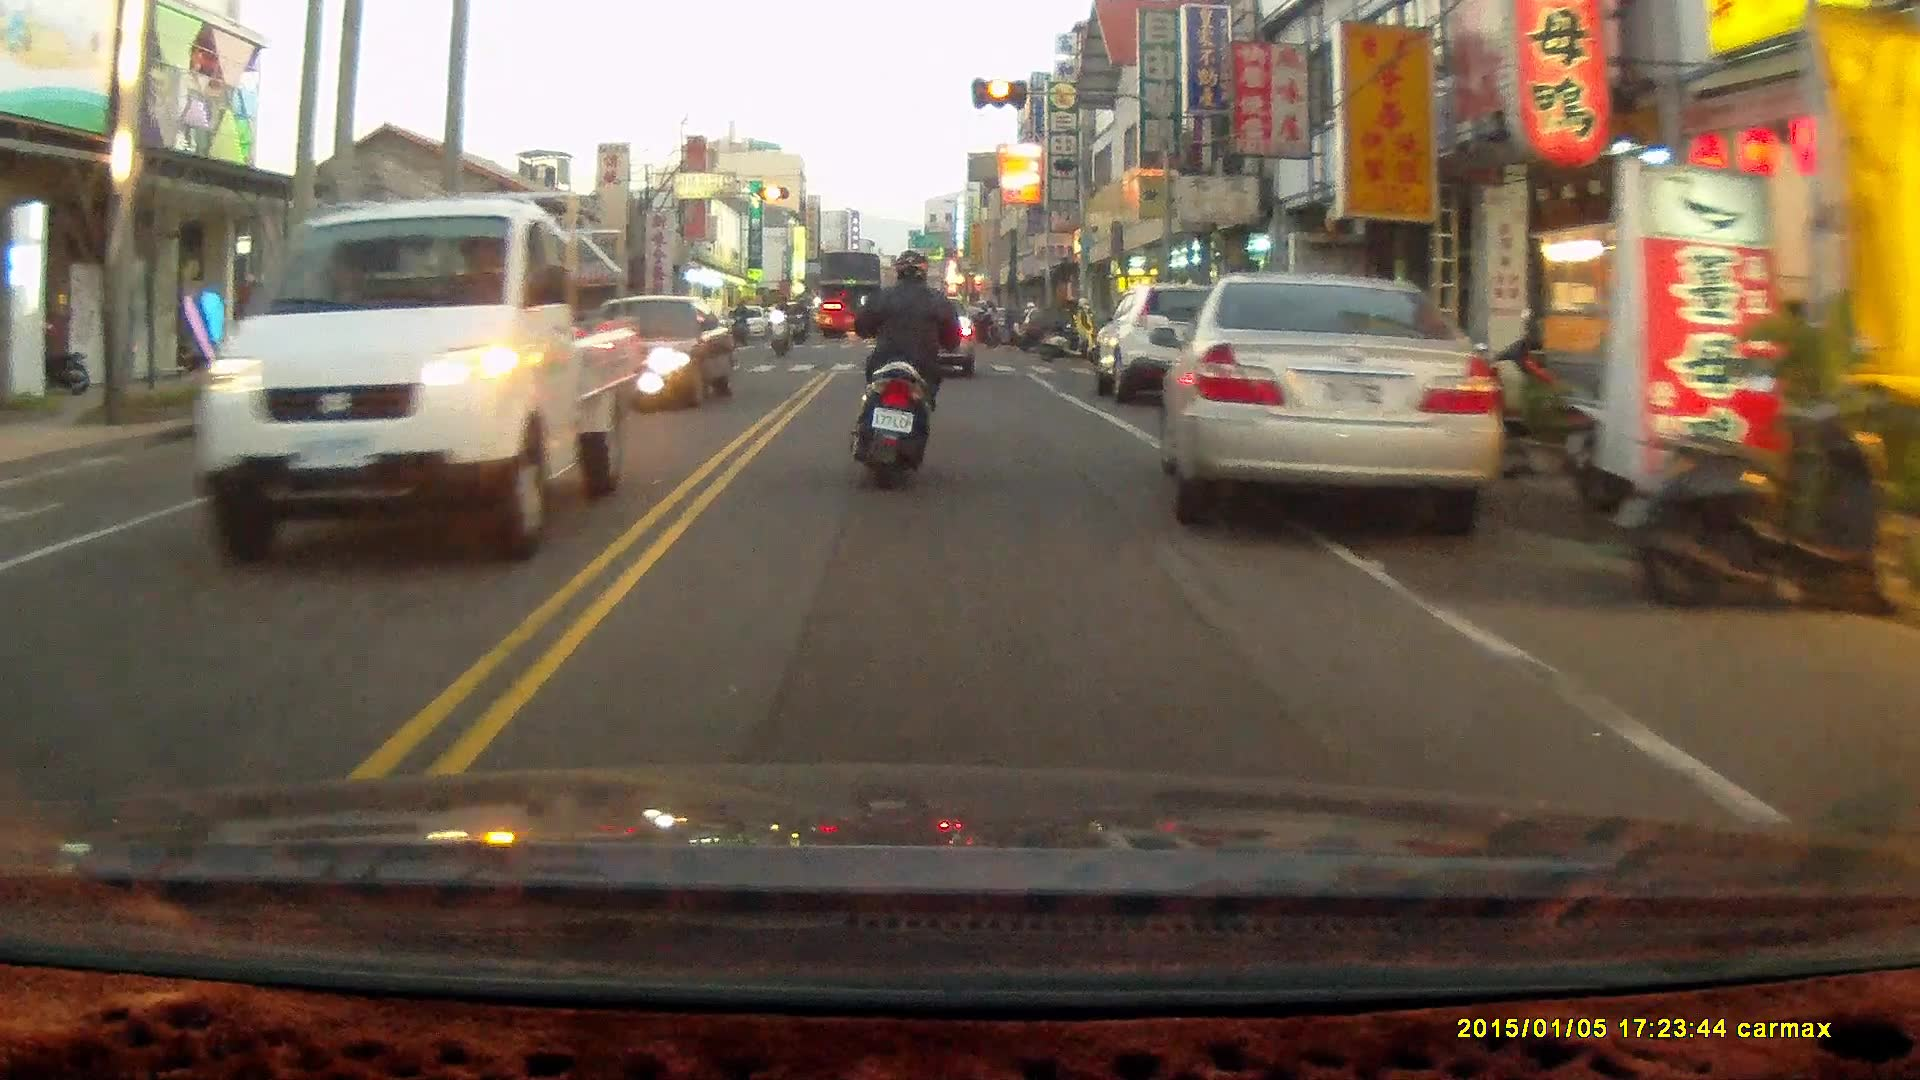pedestrian: (1072, 294, 1095, 367)
rider: (851, 249, 973, 492), (766, 292, 792, 357), (730, 297, 754, 350), (791, 294, 812, 347)
vehicle: (184, 195, 641, 567), (1158, 272, 1489, 545), (1092, 282, 1258, 407), (592, 294, 738, 412), (816, 249, 890, 336)
